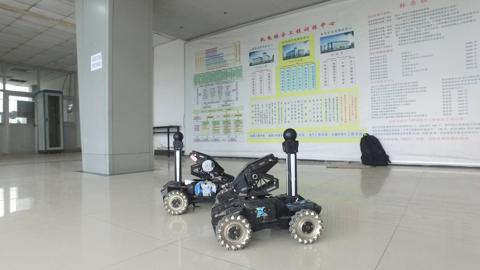chariot: (208, 122, 329, 250), (155, 128, 241, 216)
